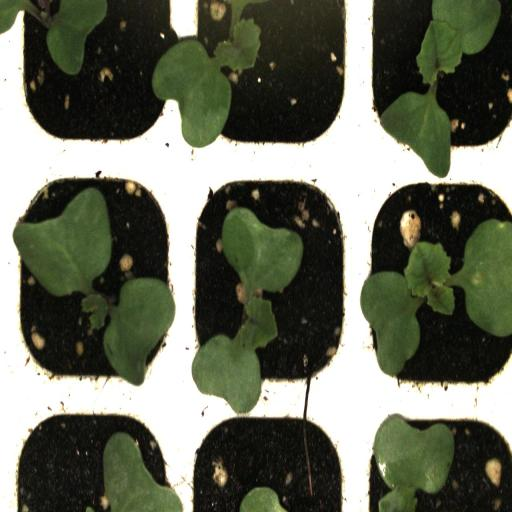seedling: (10, 161, 186, 397), (180, 163, 356, 396), (355, 164, 512, 399), (184, 1, 358, 171), (357, 0, 512, 167)
